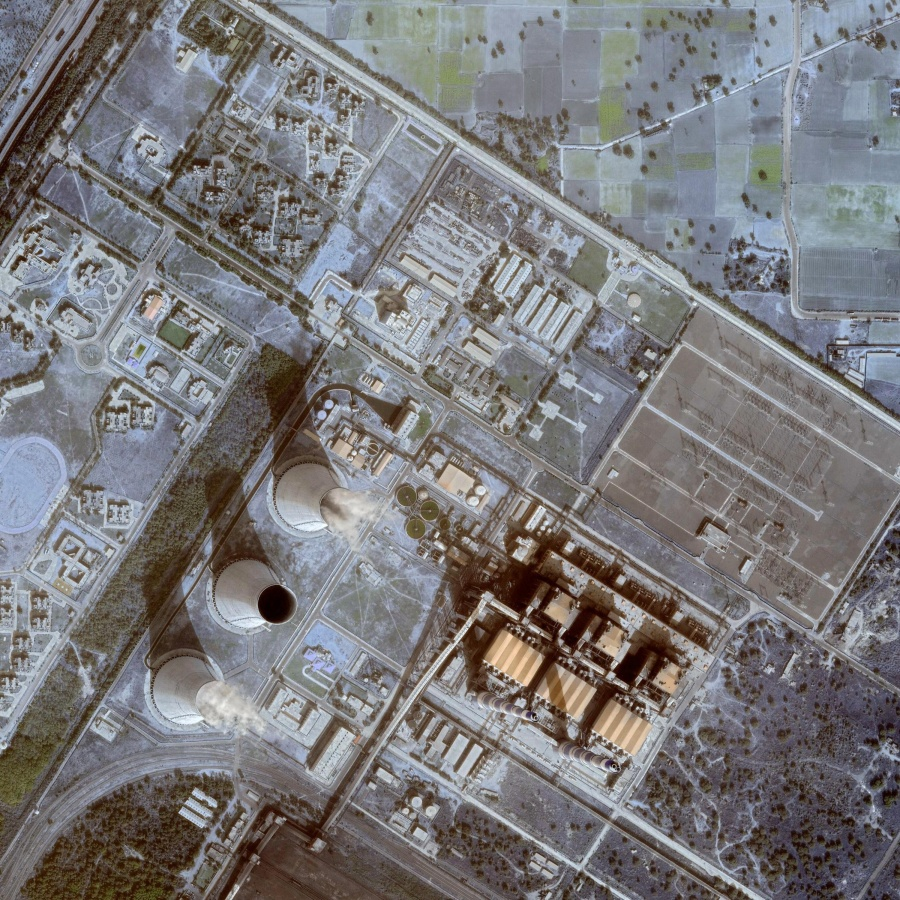PowerPlant: (138, 344, 688, 780)
